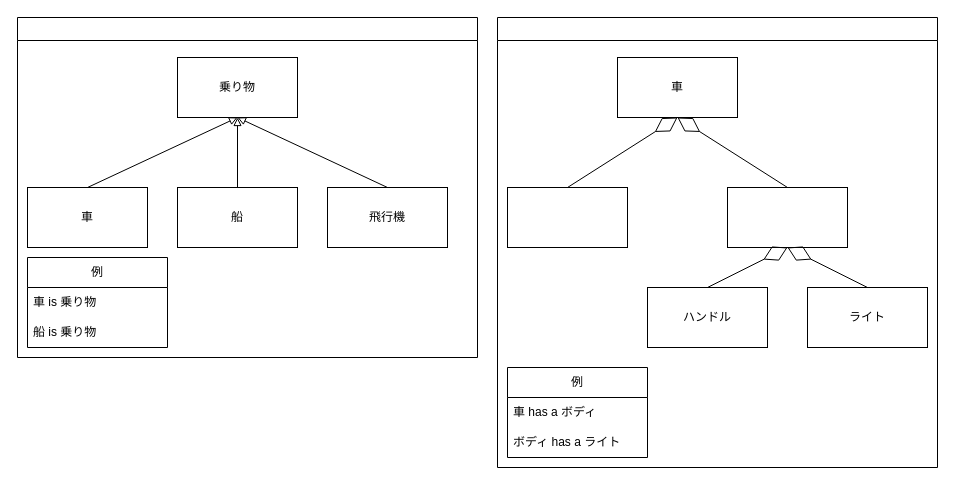
This 955x485 diagram has some shape labels left out. Each missing label, with the box of its shape:
has a 関係: (496, 16, 938, 468)
is a 関係: (16, 16, 478, 358)
エンジン: (506, 186, 628, 248)
ボディ: (726, 186, 848, 248)
